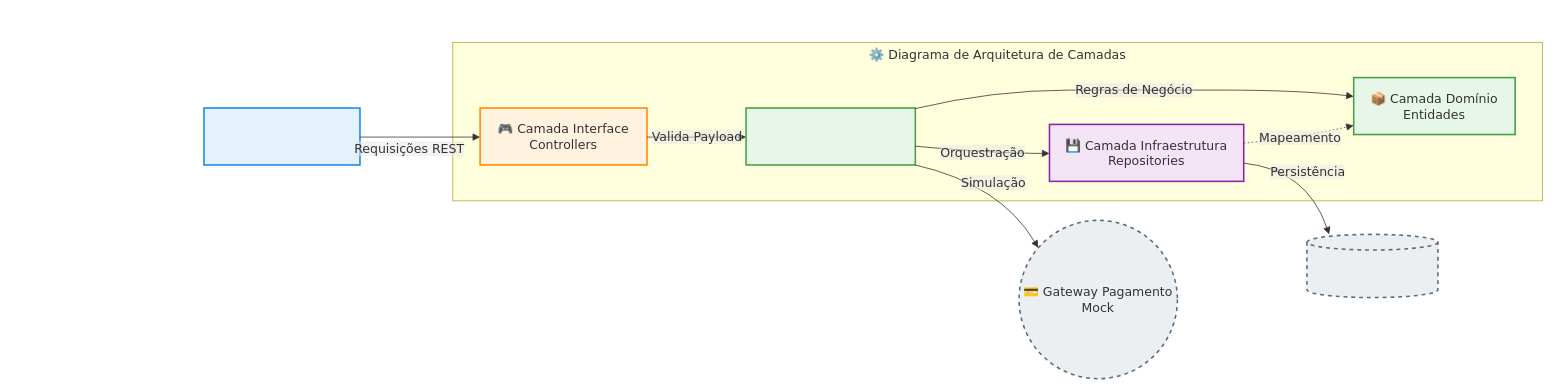
The diagram is 1556 pixels wide and 392 high, and some of its shapes have lost their labels. The centre of each missing label's shape, as x and y in pixels:
📱 Clientes App / Web / Totens: (x=281, y=136)
🗄️ Base de Dados H2 Em Ficheiro: (x=1372, y=265)
🧠 Camada Aplicação Services: (x=830, y=136)
